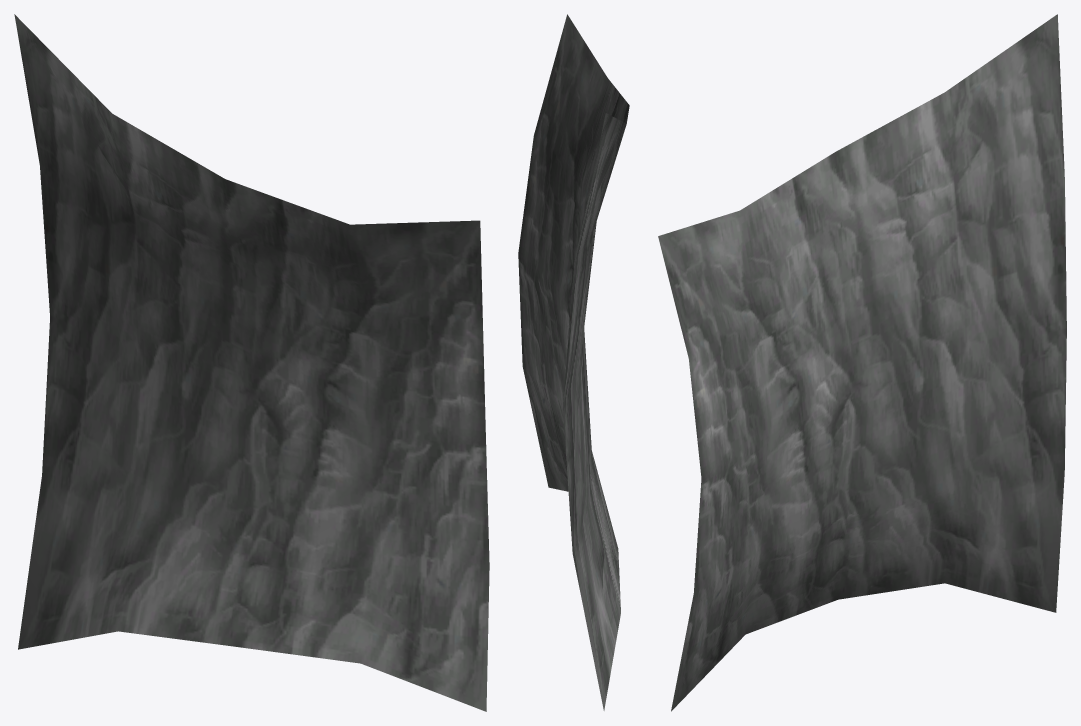
Rendered from SWORDLIGHT20_PS-AREA03_29.fbx.
3 renders of one model, left to right at view 1: azimuth 30°, elevation 25°; view 2: azimuth 150°, elevation 25°; view 3: azimuth 270°, elevation 25°, orthographic. The views are drawn at different scales.
Visible parts, largest first — view 1: SWORDLIGHT20_PS-AREA03_29; view 2: SWORDLIGHT20_PS-AREA03_29; view 3: SWORDLIGHT20_PS-AREA03_29.
Boxes of the visible parts, x1,y1,x2,y2 form: SWORDLIGHT20_PS-AREA03_29: (14,14,489,711); SWORDLIGHT20_PS-AREA03_29: (518,14,629,710); SWORDLIGHT20_PS-AREA03_29: (658,14,1066,711).
Bounding box in the file's own units: 43901 × 94515 × 58605.
Materials: 1 (1 with a texture image).
